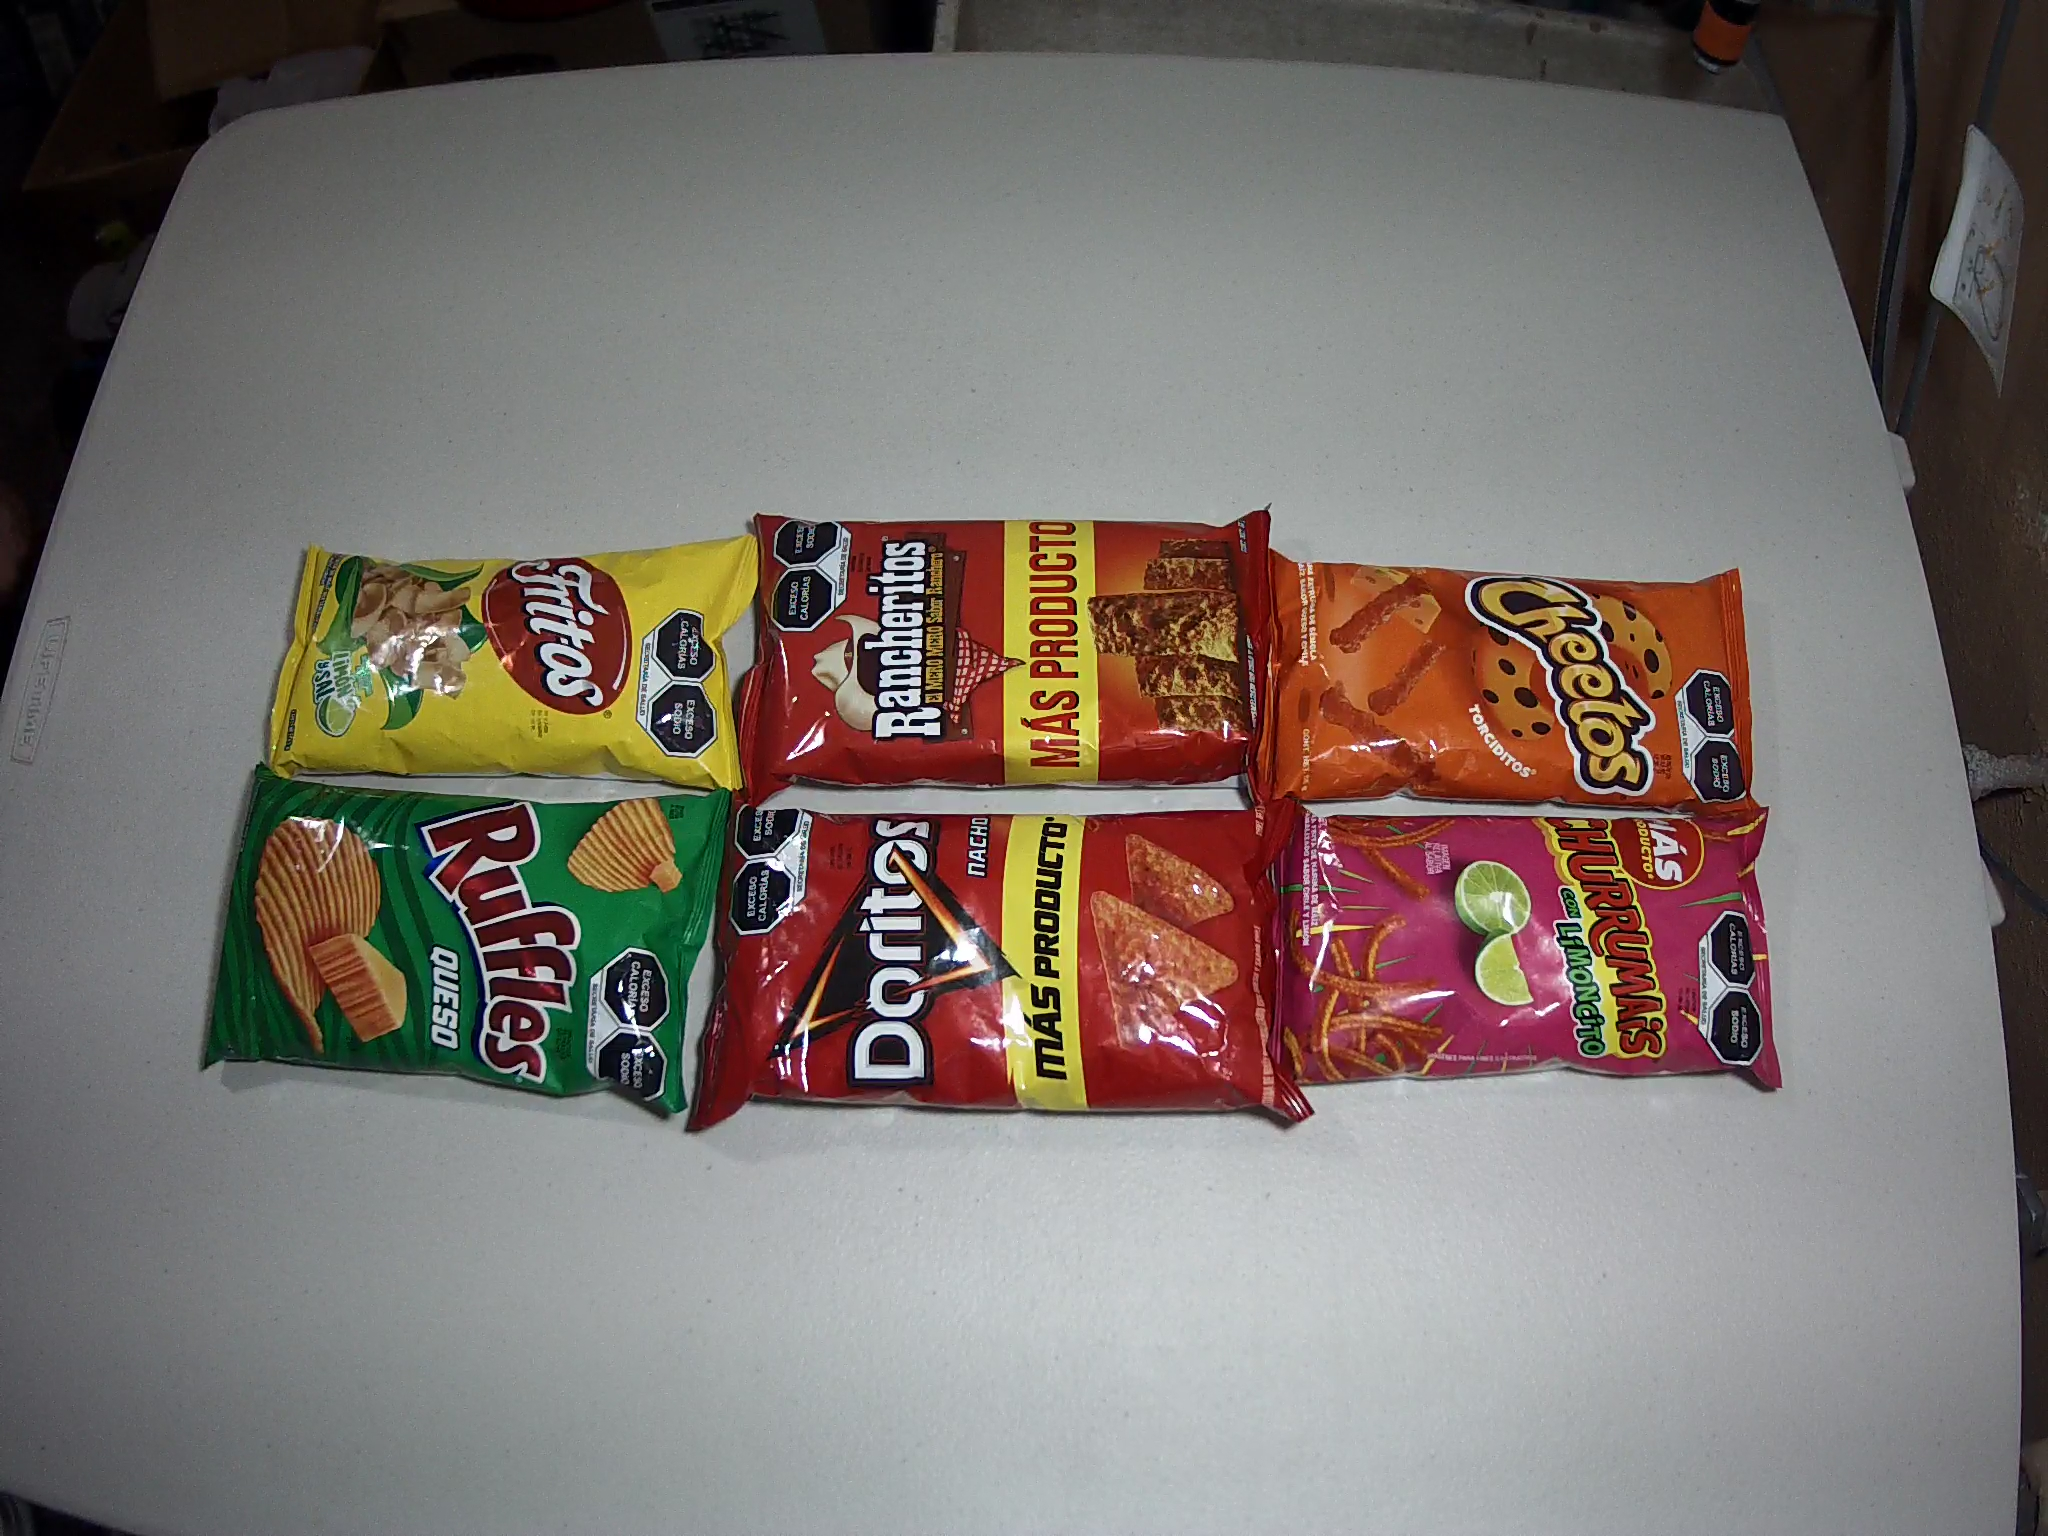CheetosTorciditos_55_F: (1263, 552, 1758, 816)
Churrumais_70_F: (1276, 820, 1787, 1096)
DoritosN_61_F: (705, 795, 1308, 1134)
FritosSalLimon_65_F: (264, 529, 756, 792)
Rancheritos_58_F: (739, 507, 1268, 800)
RufflesQ_48_F: (200, 760, 726, 1117)
